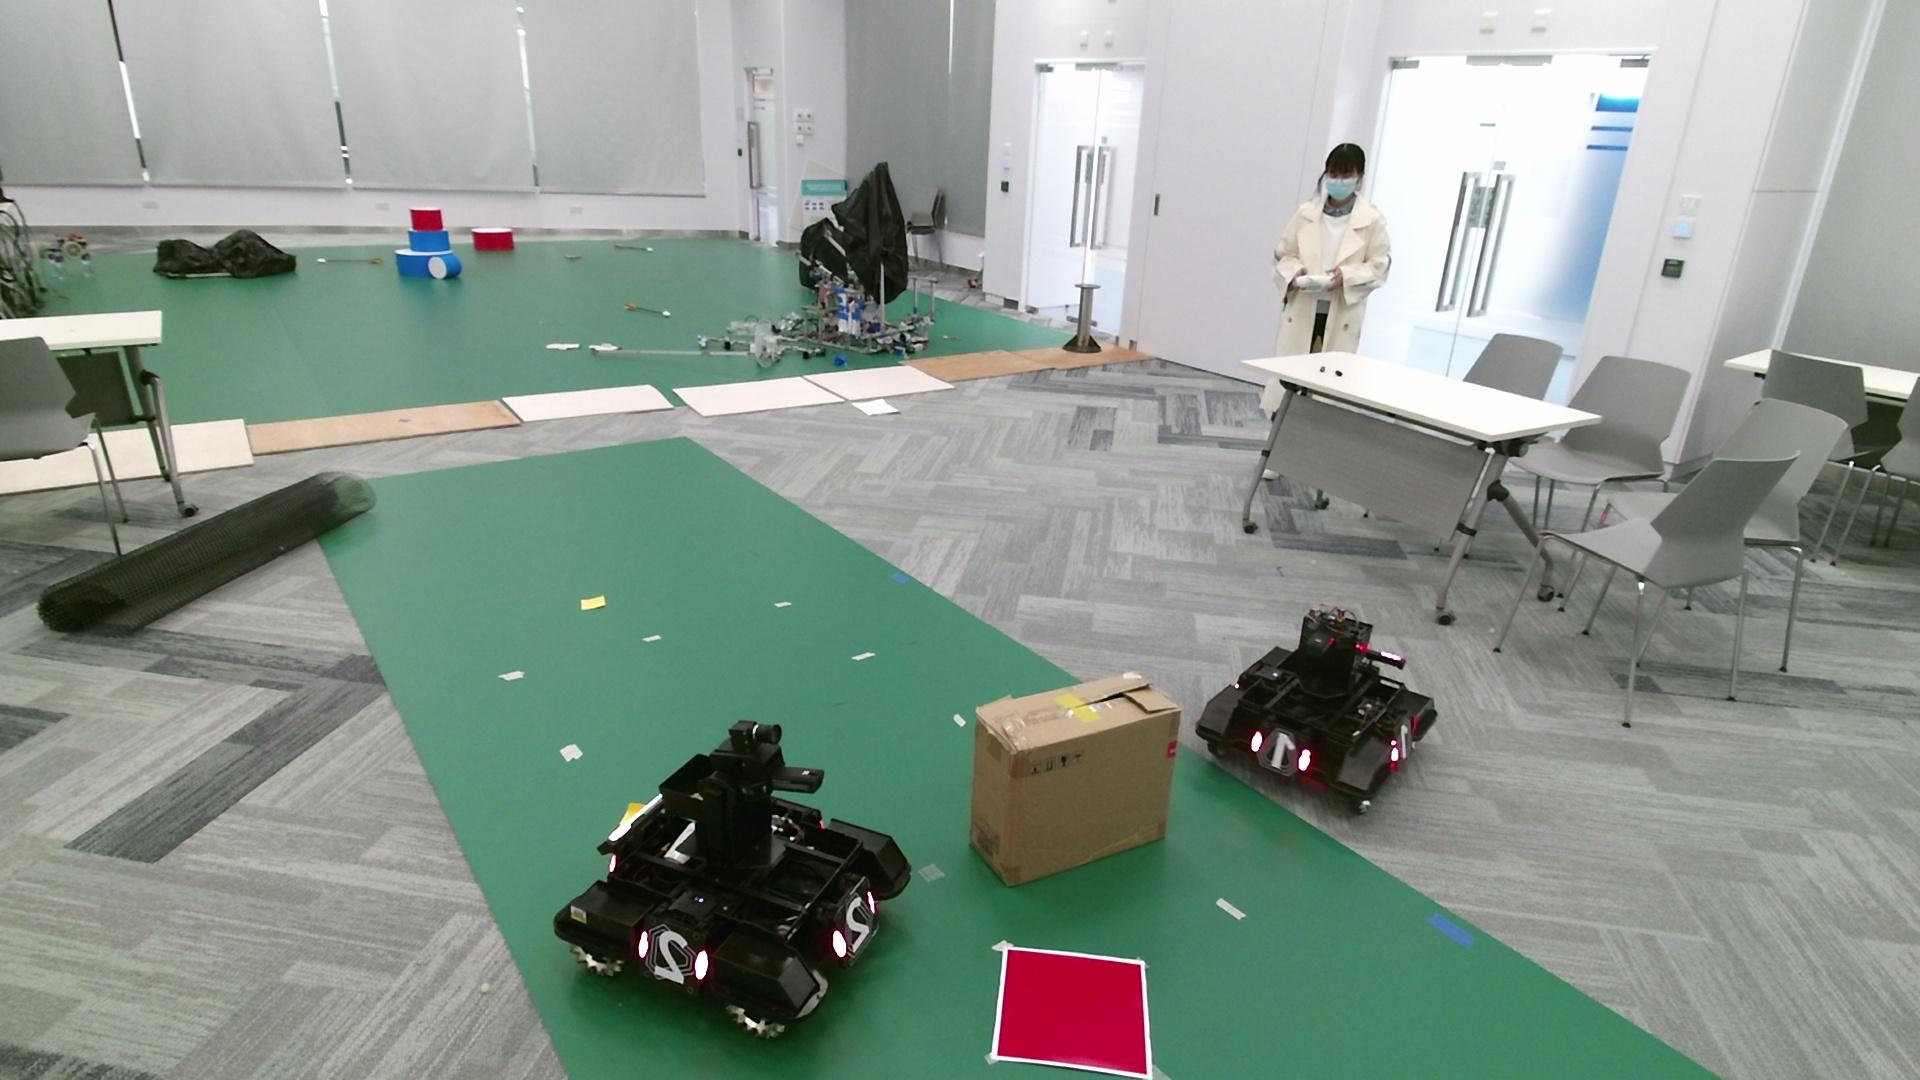robot: (553, 717, 913, 1042), (1193, 607, 1439, 816)
